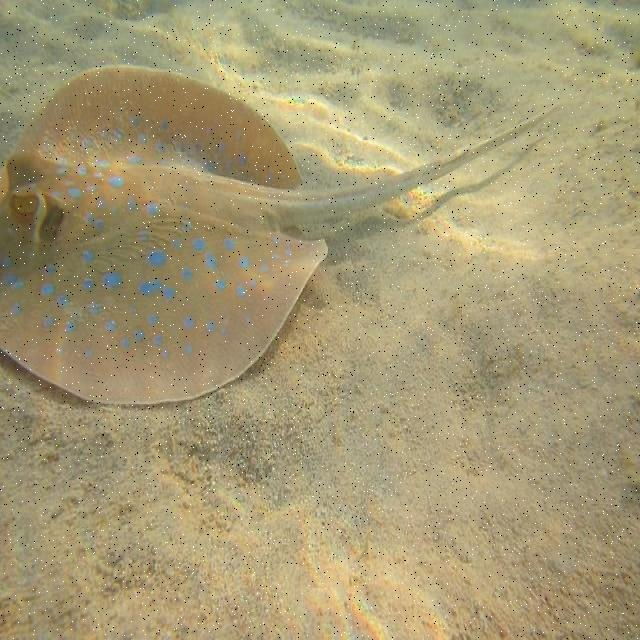reefs: (0, 66, 565, 406)
